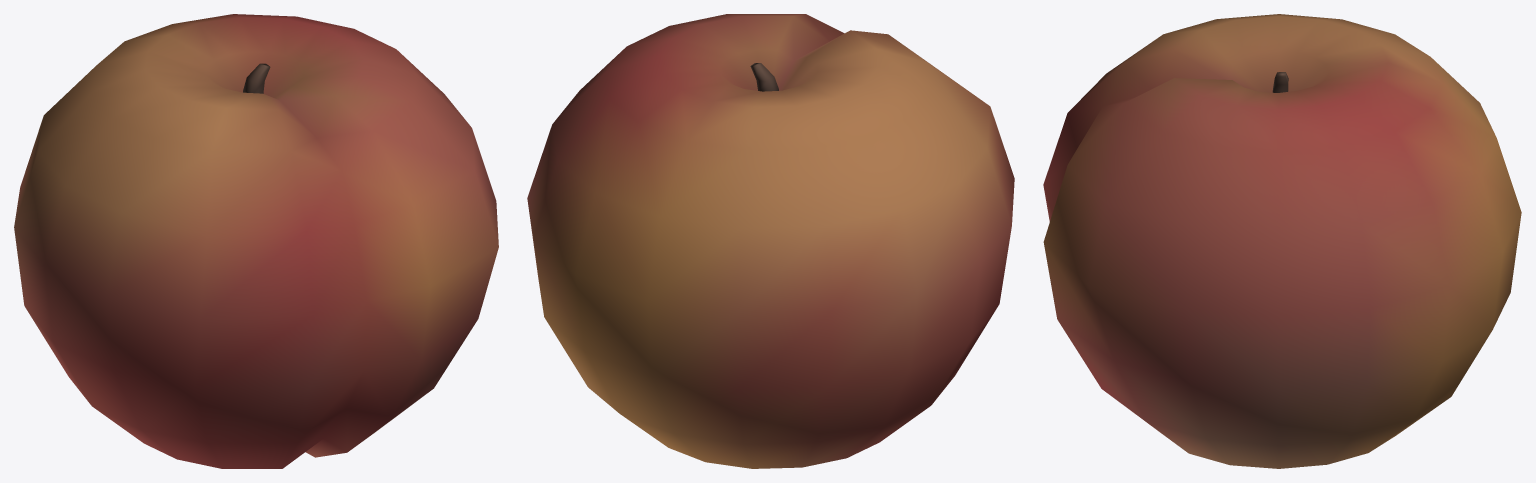
The model's file is consumables-fruits-peach_v2.glb.
3 views of the same model, side by side, from view 1: azimuth 30°, elevation 25°; view 2: azimuth 150°, elevation 25°; view 3: azimuth 270°, elevation 25° (orthographic).
Parts seen in each view (by area): view 1: Peach_v2; view 2: Peach_v2; view 3: Peach_v2.
Boxes of the visible parts, <box> form: Peach_v2: <box>14,14,498,468</box>; Peach_v2: <box>527,14,1014,468</box>; Peach_v2: <box>1043,14,1521,468</box>.
Size of the model in its own units: 0.0862 by 0.0727 by 0.0849.
